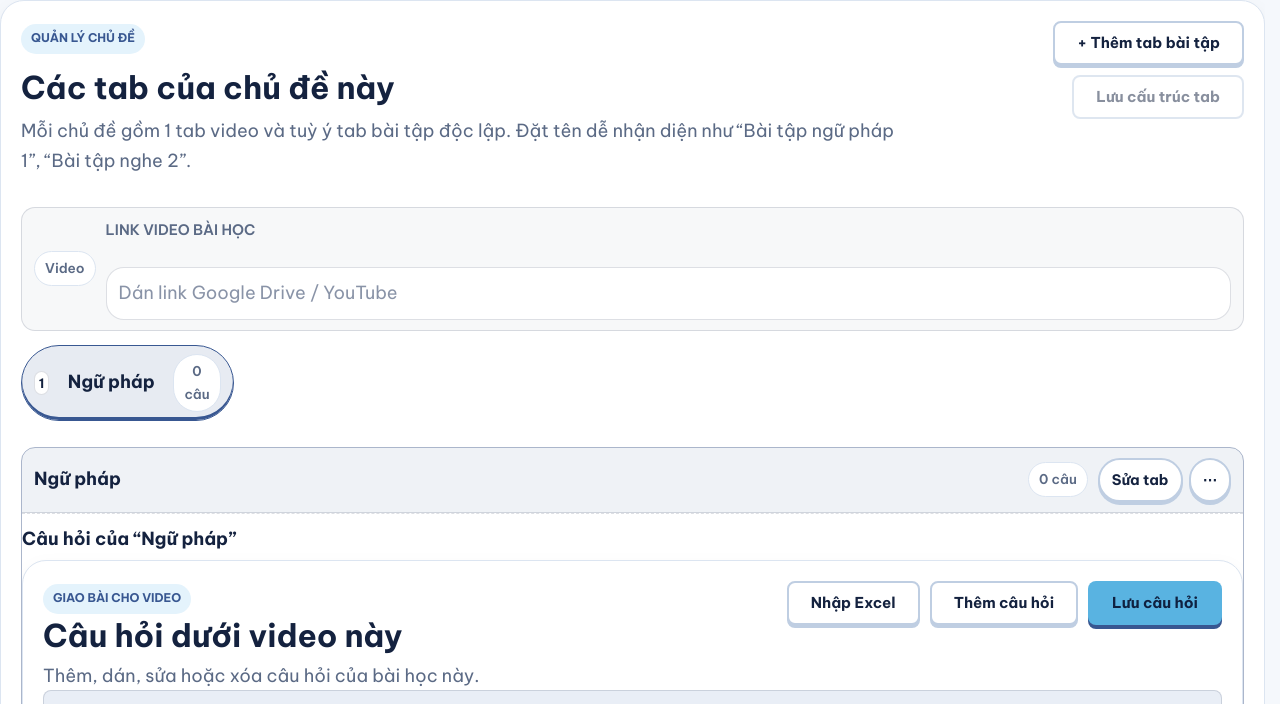
Test case: LessonTabManager — nút Sửa tab › bấm Enter là đóng ô đổi tên
The image size is (1280, 704).
Click the button "Sửa tab".
click(1140, 480)  # box [1098, 458, 1182, 502]
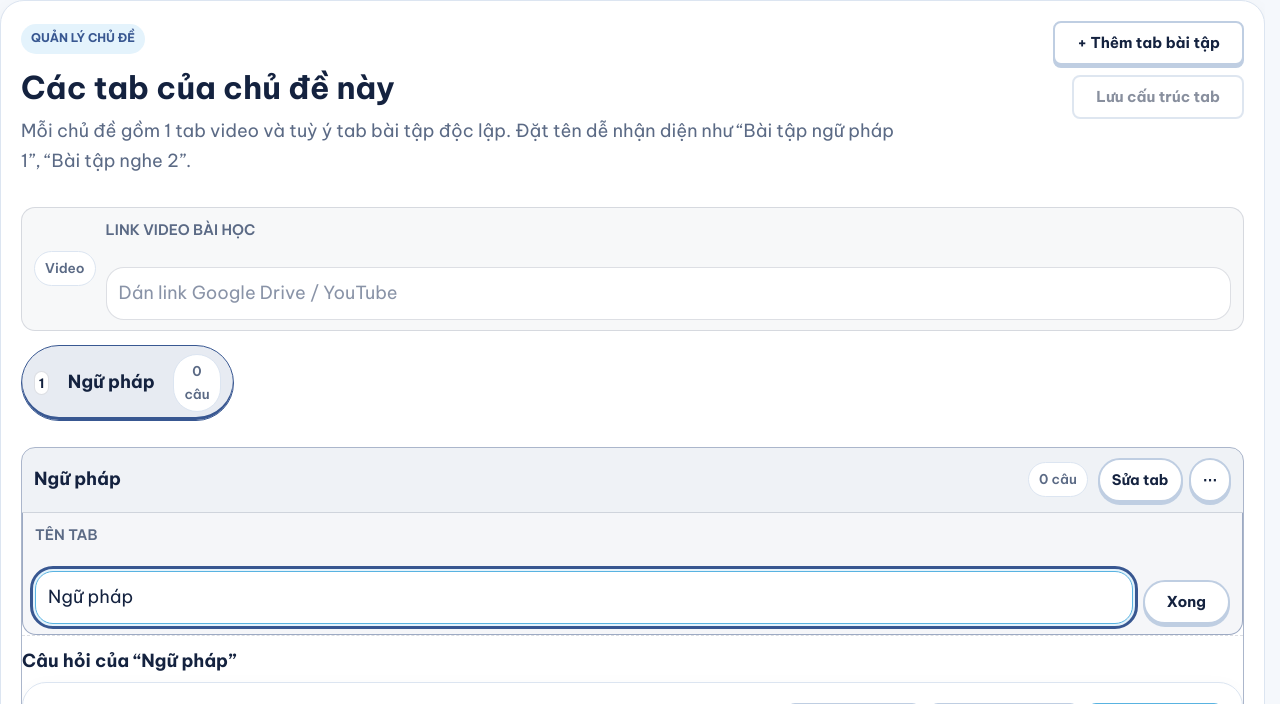
Press Enter in the field labelled "Tên tab", box [35, 571, 1132, 624]
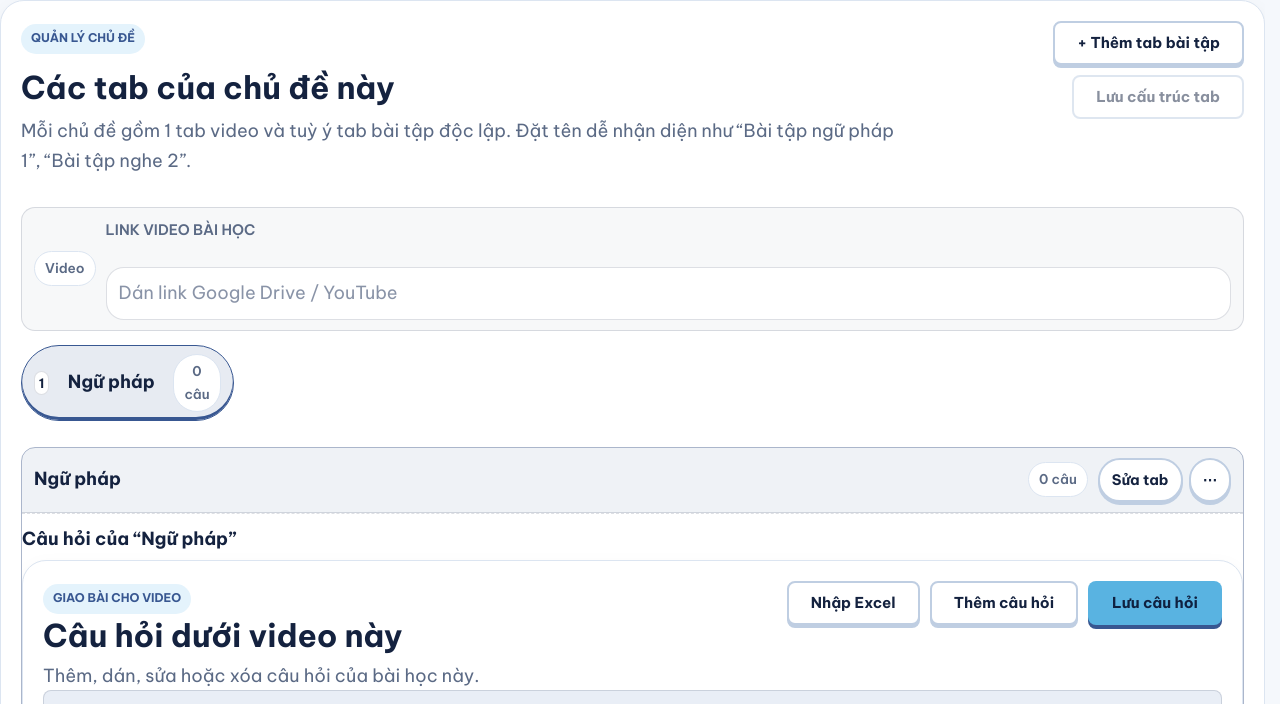
Result: no elements with class "lesson-tab-manager__rename" are shown
